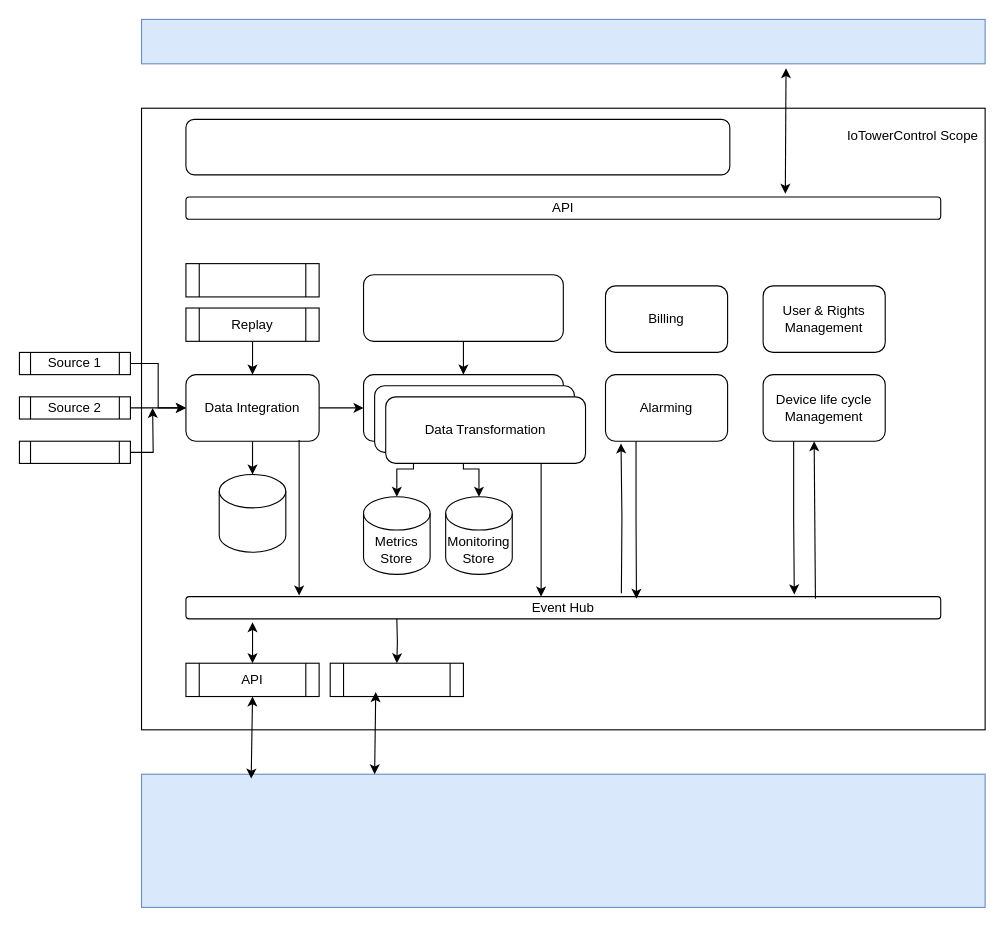
This 1005x927 diagram has some shape labels left out. Each missing label, with the centre of its shape:
"Admin UI and Generic processes" goes at point 457,146.
"Business Vertical Process" goes at point 562,840.
"Business Vertical UI" goes at point 562,41.
"Data Transformer edition" goes at point 462,307.
"Filter / Auth" goes at point 252,280.
"Queuing" goes at point 396,679.
"Raw Storage" goes at point 252,512.
"Source 3" goes at point 74,451.
